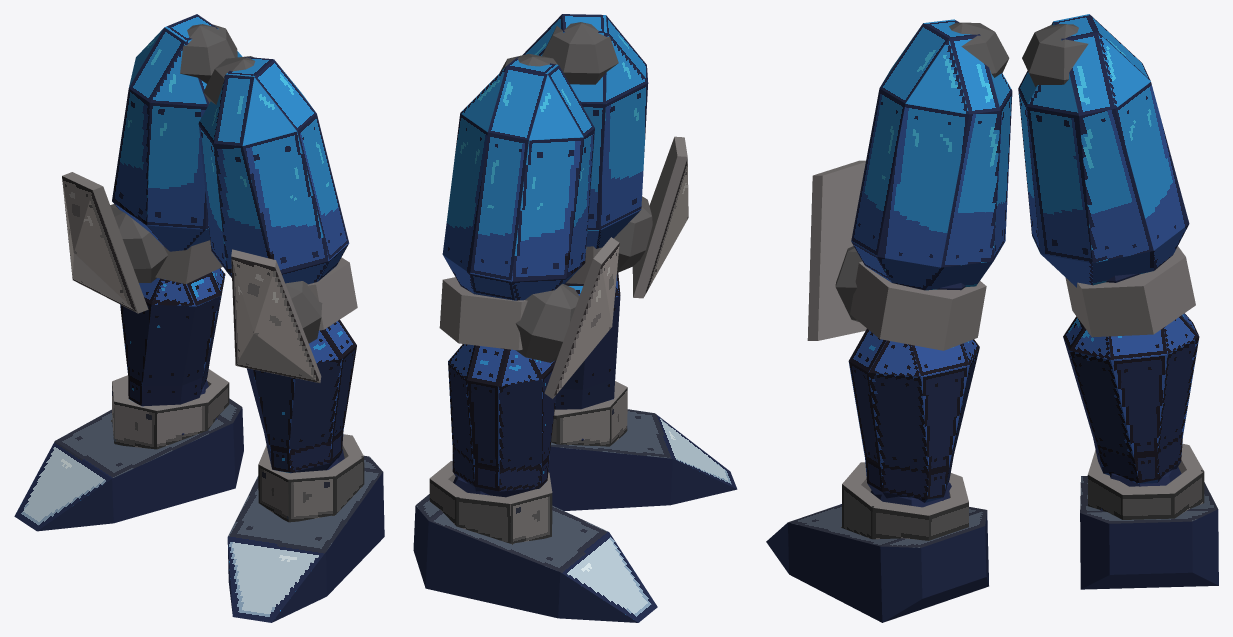
Rendered from HeavyLegs.gltf.
The picture shows the model from 3 angles, left to right: view 1: azimuth 30°, elevation 25°; view 2: azimuth 150°, elevation 25°; view 3: azimuth 270°, elevation 25°; orthographic projection. The views are drawn at different scales.
Parts seen in each view (by area): view 1: UpperLegGuard (×2), cuboid (×2), HeavyLowerLegGuard (×2), pyramid (×2), tube (×2), Brace (×2), sphere (×2), HipJoint (×2); view 2: UpperLegGuard (×2), cuboid (×2), HeavyLowerLegGuard (×2), pyramid (×2), tube (×2), sphere (×2), Brace (×2), HipJoint; view 3: UpperLegGuard (×2), HeavyLowerLegGuard (×2), cuboid (×2), Brace (×2), tube (×2), pyramid, HipJoint (×2), sphere.
Boxes of the visible parts, x1,y1,x2,y2 form: UpperLegGuard (×2): [112, 14, 349, 284]; cuboid (×2): [14, 398, 384, 622]; HeavyLowerLegGuard (×2): [120, 268, 356, 473]; pyramid (×2): [62, 172, 321, 383]; tube (×2): [112, 369, 364, 522]; Brace (×2): [155, 240, 357, 330]; sphere (×2): [110, 204, 322, 343]; HipJoint (×2): [180, 24, 255, 104]; UpperLegGuard (×2): [442, 14, 648, 300]; cuboid (×2): [413, 409, 737, 622]; HeavyLowerLegGuard (×2): [448, 273, 620, 497]; pyramid (×2): [544, 136, 688, 398]; tube (×2): [429, 381, 627, 543]; sphere (×2): [515, 196, 652, 362]; Brace (×2): [439, 246, 602, 350]; HipJoint: [542, 22, 618, 84]; UpperLegGuard (×2): [851, 14, 1189, 290]; HeavyLowerLegGuard (×2): [848, 313, 1199, 502]; cuboid (×2): [766, 476, 1218, 622]; Brace (×2): [850, 246, 1195, 350]; tube (×2): [842, 443, 1204, 540]; pyramid: [807, 160, 866, 340]; HipJoint (×2): [949, 22, 1088, 86]; sphere: [835, 246, 861, 321].
Bounding box in the file's own units: 0.7446 × 1.37 × 1.02.
1 material, 1 textured.
